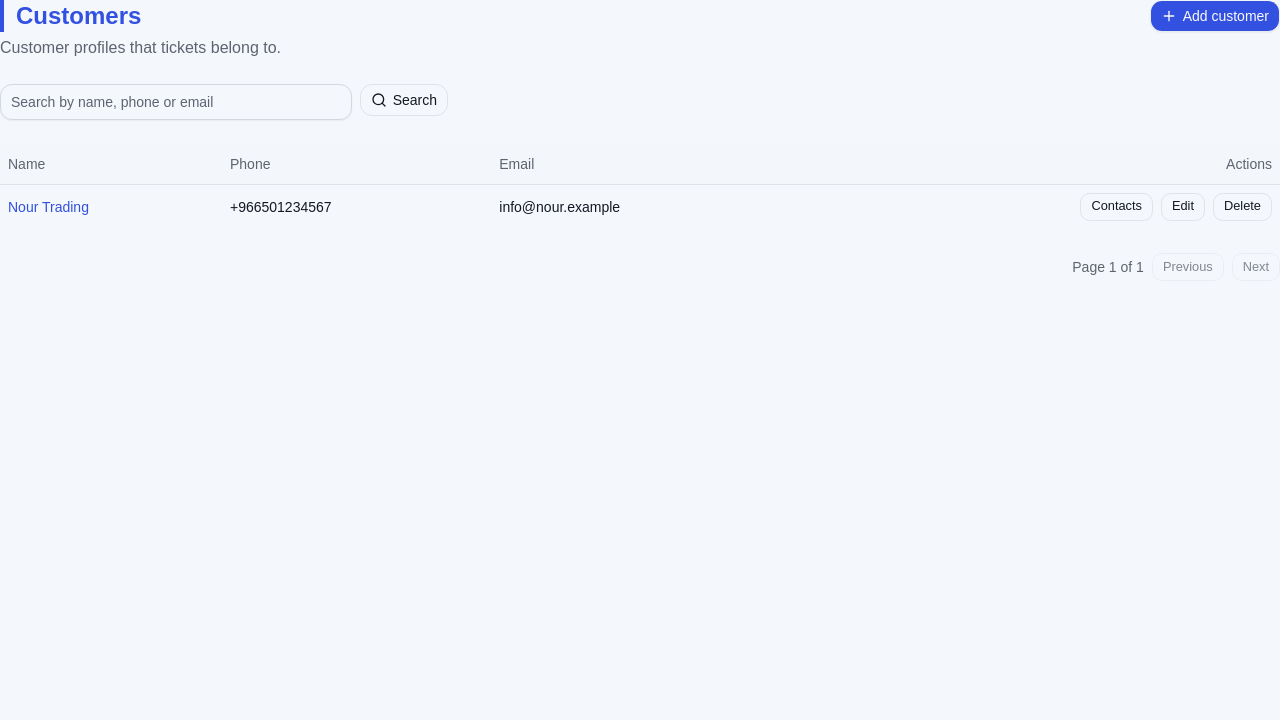
Test: Customer contacts › adds a phone number and reloads the contacts
Click the button "Contacts" at (1117, 206), box 1080,192 -> 1153,220
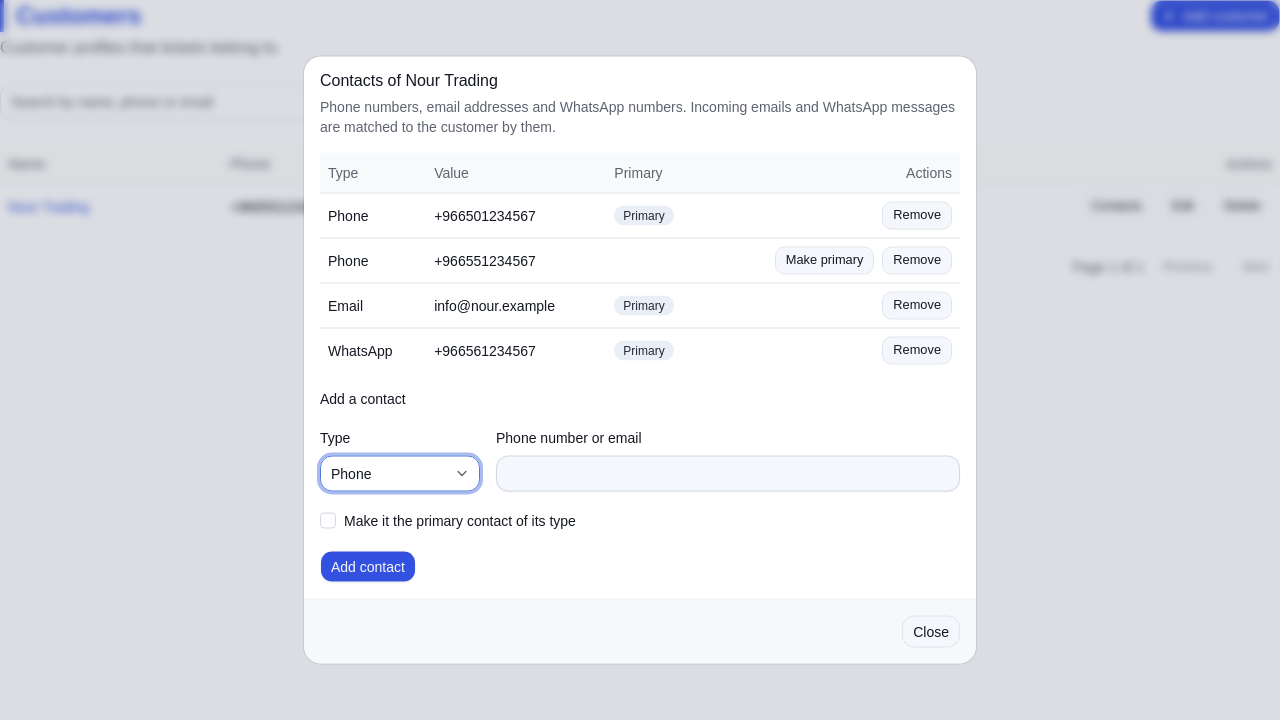
Now the text "+966551234567" is shown, box 426,238 -> 606,282
Type " 057 123 4567 " into the field labelled "Phone number or email" at (728, 473), box 496,455 -> 960,491
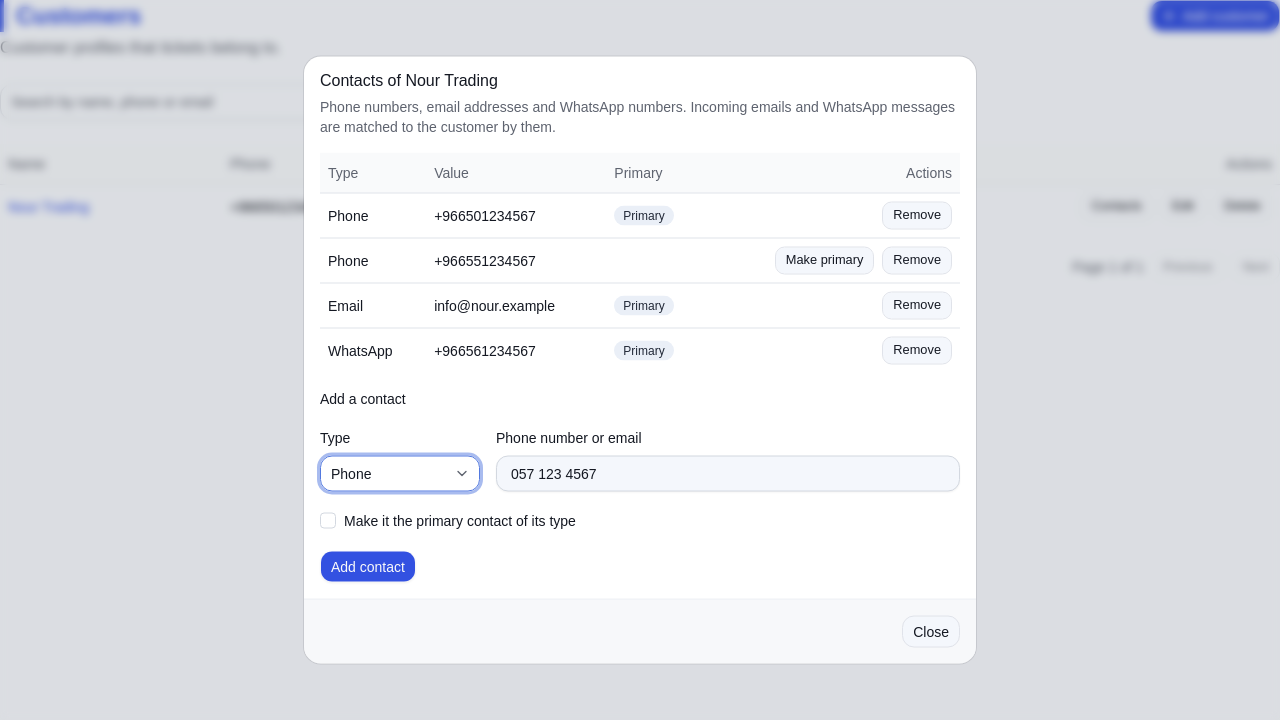
Click the button "Add contact" at (368, 566), box 320,550 -> 416,582
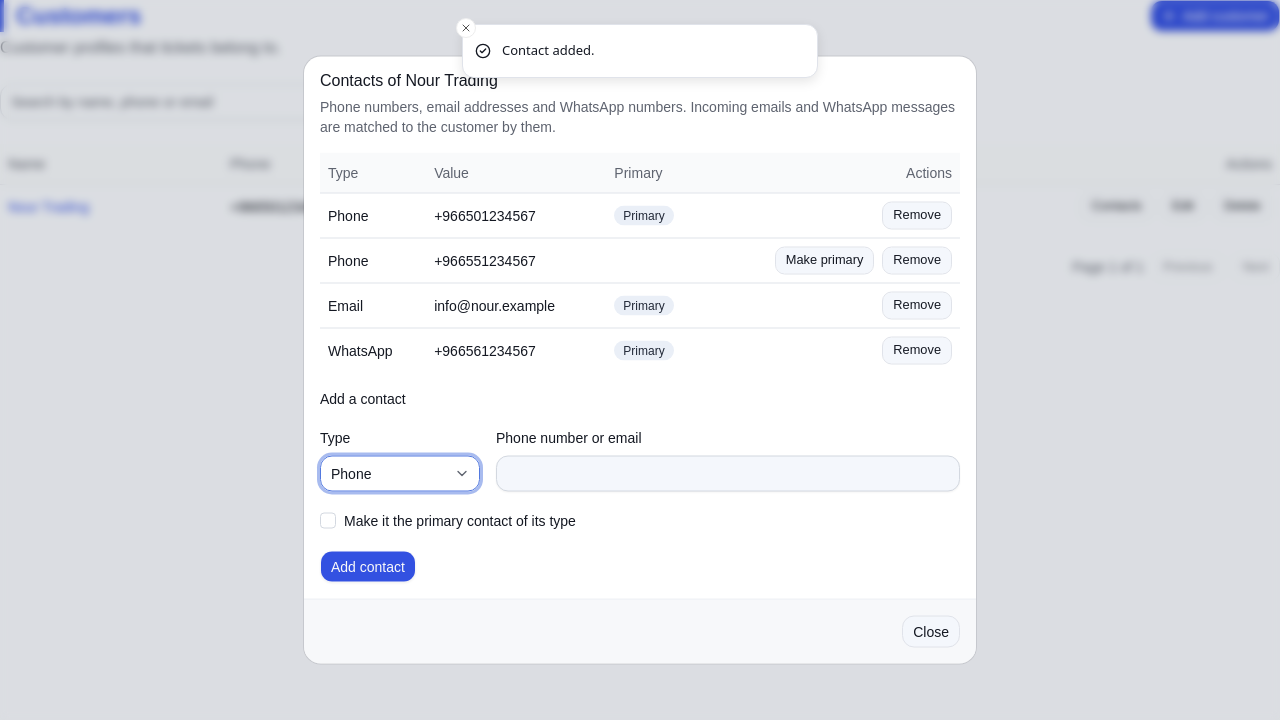
Now the text "Contact added." is shown, box 502,41 -> 594,60
Now the field labelled "Phone number or email" is empty, box 496,455 -> 960,491
